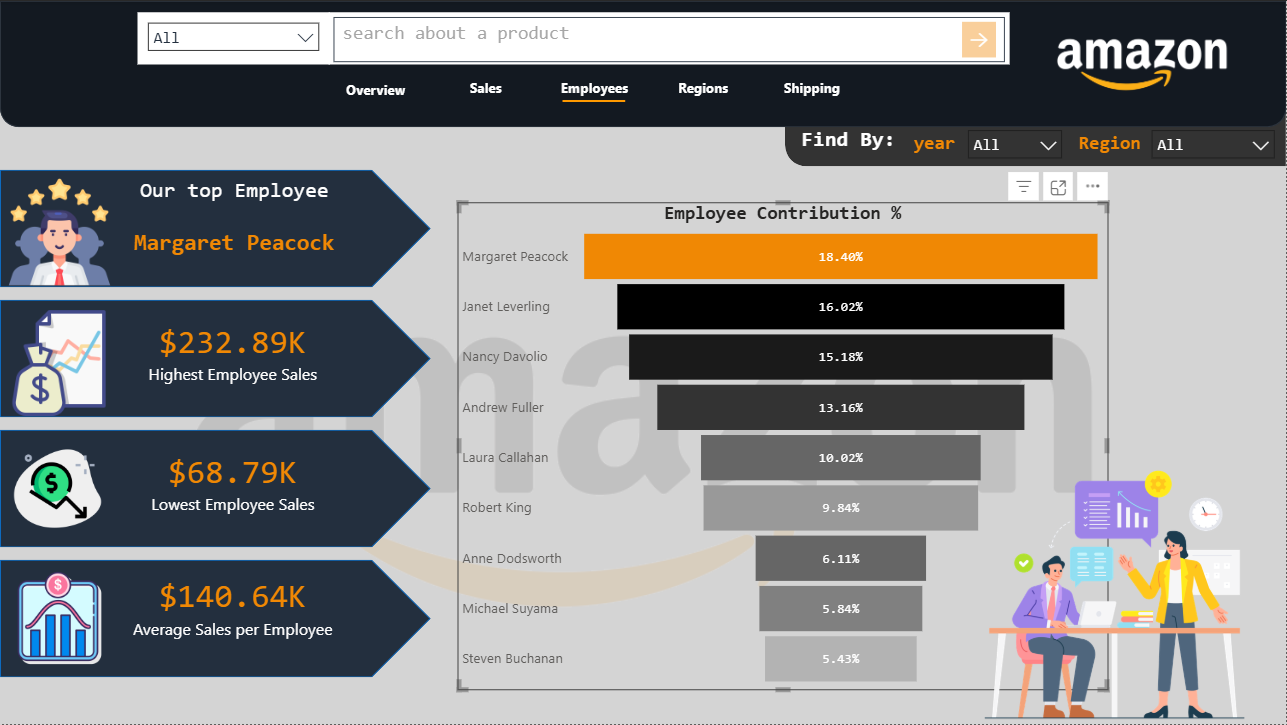

Layout of this report page (visuals, bound fields, positions):
{"tool":"powerbi","page":{"name":"Employees","canvas":[1280,720],"ordinal":2},"visuals":[{"type":"shape","box":[780.6,79.1,498.5,85.1],"z":0},{"type":"image","box":[0,126.2,1280,593.8],"z":500},{"type":"shape","box":[0,0,1280.2,125.6],"z":1000},{"type":"shape","box":[559.7,73.1,62.7,52.2],"z":2000},{"type":"image","box":[1046.3,13.4,180.6,98.5],"z":3000},{"type":"textSlicer","fields":{"Values":["Products.ProductName"]},"box":[327.8,11.6,677.6,52.2],"z":4000},{"type":"slicer","fields":{"Values":["Categories.CategoryName"]},"box":[136.7,11.6,191,52.2],"z":5000},{"type":"actionButton","title":"Sales","box":[428.6,65.7,108.6,40],"z":6000},{"type":"actionButton","title":"Sales","box":[320,65.7,108.6,40],"z":7000},{"type":"actionButton","title":"Sales","box":[537.1,65.7,108.6,40],"z":8000},{"type":"actionButton","title":"Sales","box":[645.7,65.7,108.6,40],"z":9000},{"type":"actionButton","title":"Sales","box":[754.3,65.7,108.6,40],"z":10000},{"type":"textbox","box":[792.5,119.4,117.9,44.8],"z":11000},{"type":"slicer","fields":{"Values":["Orders.OrderDate.Variation.Date Hierarchy.Year"]},"box":[953.1,118,114.3,48.6],"z":12000},{"type":"textbox","box":[904.6,125.1,67.1,38.6],"z":13000},{"type":"slicer","fields":{"Values":["Region.RegionDescription"]},"box":[1136,118,142.9,48.6],"z":14000},{"type":"textbox","box":[1068.9,125.1,81.4,38.6],"z":15000},{"type":"shape","box":[0,167.7,428.6,117.1],"z":16000},{"type":"shape","box":[0,297.2,428.6,117.1],"z":17000},{"type":"shape","box":[0,426.8,428.6,117.1],"z":18000},{"type":"shape","box":[0,556.3,428.6,117.1],"z":19000},{"type":"image","box":[0,175.7,118.6,108.6],"z":20000},{"type":"image","box":[0,305.7,118.6,108.6],"z":21000},{"type":"image","box":[14.3,434.3,87.1,102.9],"z":22000},{"type":"image","box":[0,565.7,118.6,95.7],"z":23000},{"type":"cardVisual","title":"Our top Employee","fields":{"Rows":["Employees.Full Name"]},"box":[101.4,175.7,262.9,141.4],"z":24000},{"type":"cardVisual","title":"Highest Employee Sales","fields":{"Data":["Categories.Highest Employee Sales"],"Rows":["Employees.Full Name"]},"box":[60,248.6,344.3,165.7],"z":25000},{"type":"cardVisual","title":"Highest Employee Sales","fields":{"Data":["Categories.Lowest Employee Sales"],"Rows":["Employees.Full Name"]},"box":[60,378.6,344.3,165.7],"z":26000},{"type":"cardVisual","title":"Highest Employee Sales","fields":{"Data":["Categories.Average Sales per Employee"]},"box":[60,521.4,344.3,165.7],"z":27000},{"type":"funnel","title":"Employee Contribution % ","fields":{"Y":["Categories.Employee Contribution %"],"Category":["Employees.Full Name"]},"box":[455.7,200,647.1,487.1],"z":28000},{"type":"image","box":[938.6,461.4,340,258.6],"z":29000}]}

Visuals, with their boxes in screenshot pixels (x1, y1, x2, y2), scaled from the page's 1280x720 canvas onto the 1287x725 screenshot:
shape: select_region(785, 80, 1286, 165)
image: select_region(0, 127, 1286, 724)
shape: select_region(0, 0, 1286, 126)
shape: select_region(563, 74, 626, 126)
image: select_region(1052, 13, 1234, 113)
textSlicer - Products.ProductName: select_region(330, 12, 1011, 64)
slicer - Categories.CategoryName: select_region(137, 12, 329, 64)
"Sales" actionButton: select_region(431, 66, 540, 106)
"Sales" actionButton: select_region(322, 66, 431, 106)
"Sales" actionButton: select_region(540, 66, 649, 106)
"Sales" actionButton: select_region(649, 66, 758, 106)
"Sales" actionButton: select_region(758, 66, 868, 106)
textbox: select_region(797, 120, 915, 165)
slicer - Orders.OrderDate.Variation.Date Hierarchy.Year: select_region(958, 119, 1073, 168)
textbox: select_region(910, 126, 977, 165)
slicer - Region.RegionDescription: select_region(1142, 119, 1286, 168)
textbox: select_region(1075, 126, 1157, 165)
shape: select_region(0, 169, 431, 287)
shape: select_region(0, 299, 431, 417)
shape: select_region(0, 430, 431, 548)
shape: select_region(0, 560, 431, 678)
image: select_region(0, 177, 119, 286)
image: select_region(0, 308, 119, 417)
image: select_region(14, 437, 102, 541)
image: select_region(0, 570, 119, 666)
"Our top Employee" cardVisual: select_region(102, 177, 366, 319)
"Highest Employee Sales" cardVisual: select_region(60, 250, 407, 417)
"Highest Employee Sales" cardVisual: select_region(60, 381, 407, 548)
"Highest Employee Sales" cardVisual: select_region(60, 525, 407, 692)
"Employee Contribution % " funnel: select_region(458, 201, 1109, 692)
image: select_region(944, 465, 1286, 724)
